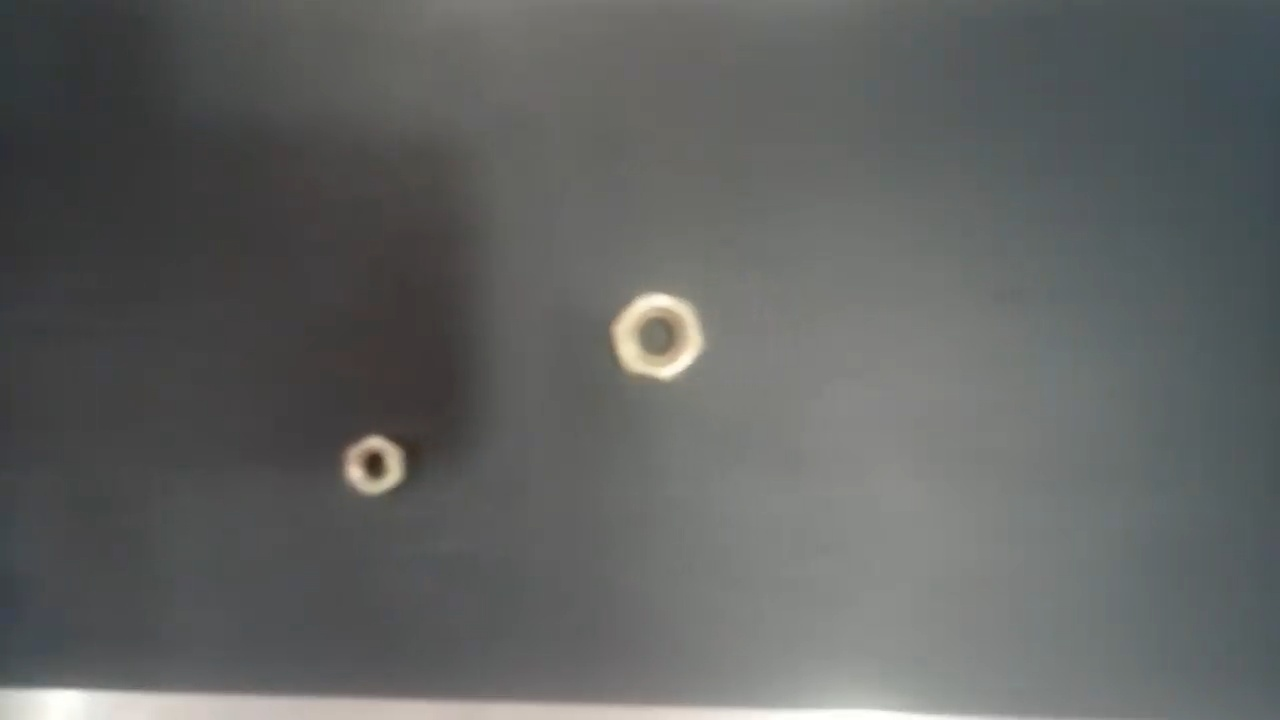Bolt: (608, 290, 708, 382), (340, 433, 412, 497)
